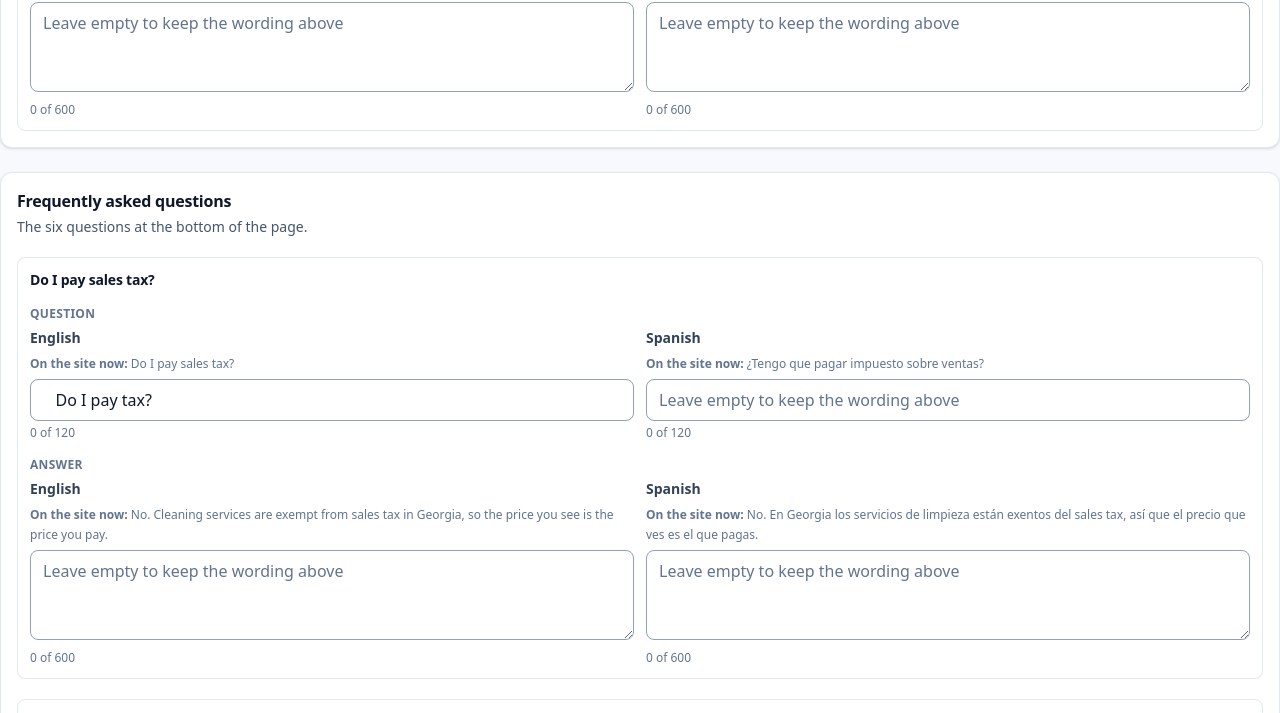
Test case: guardar › recorta los espacios antes de mandar
(page scrolled)
Replace the text in the field labelled "English" with "   Do I pay tax?   " at (332, 400), box [30, 379, 634, 421]
(page scrolled)
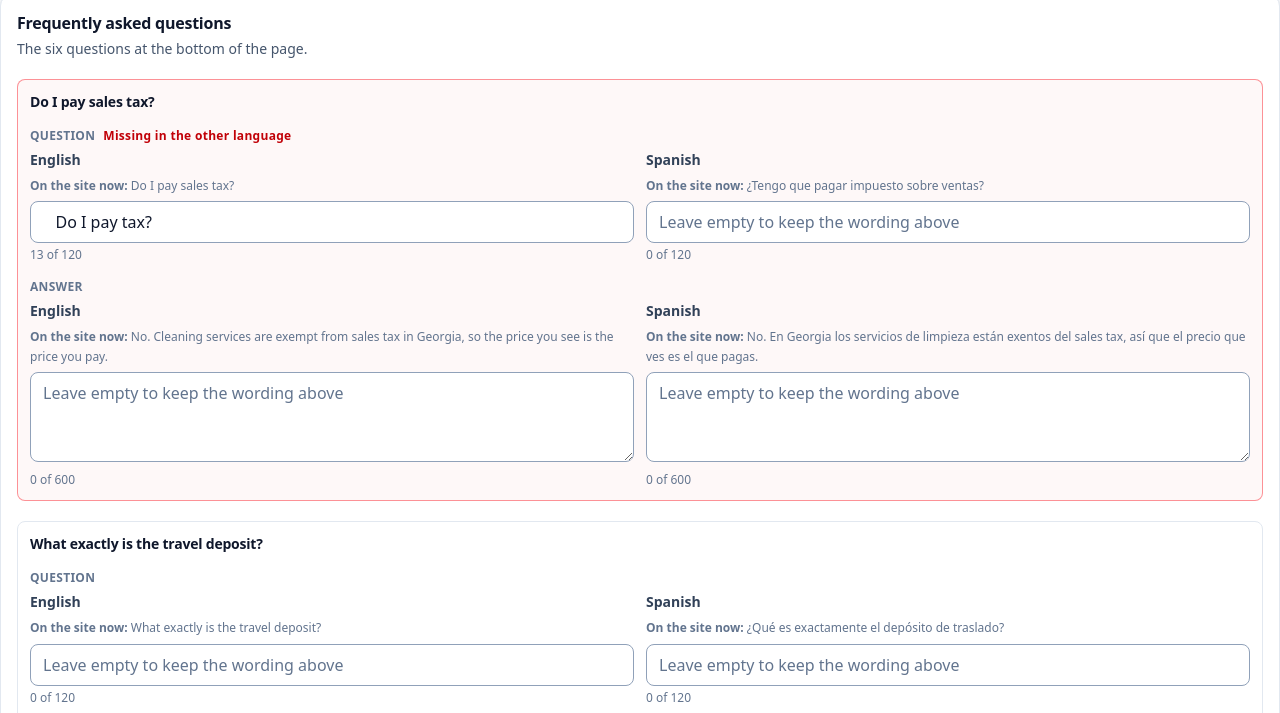
Submit the form
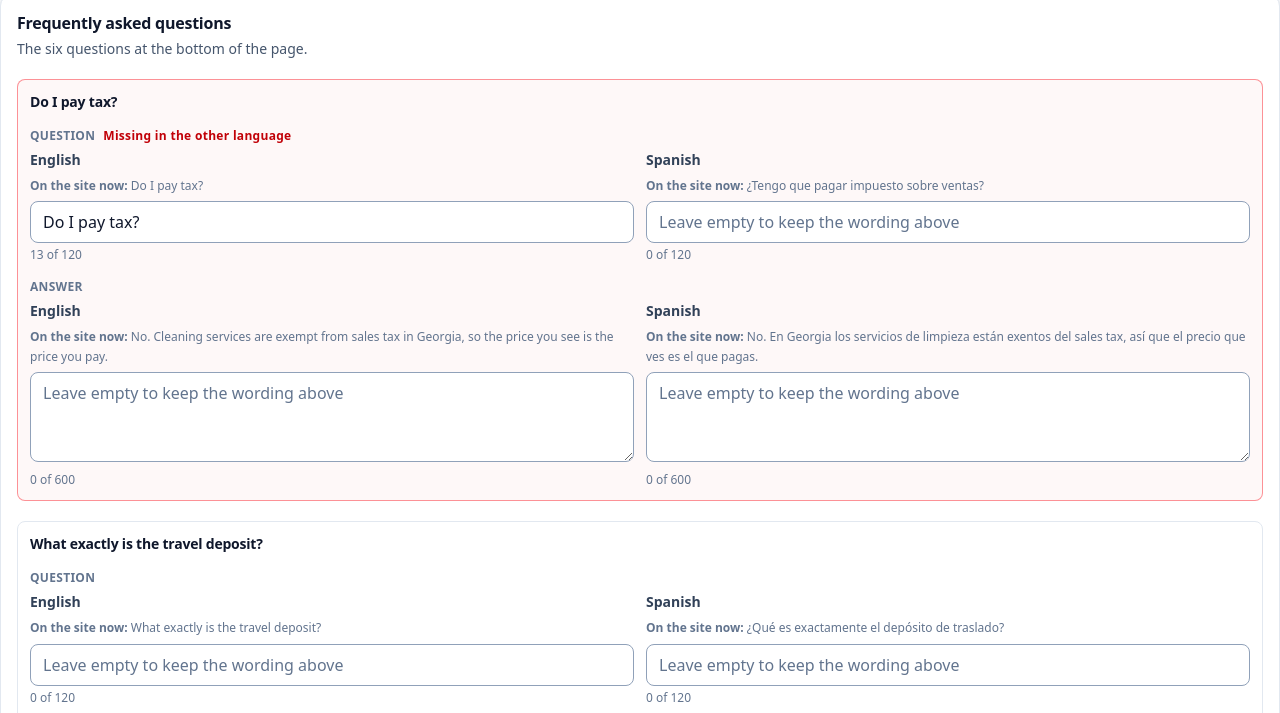
Now the heading "Do I pay tax?" is shown, box [30, 92, 117, 110]
